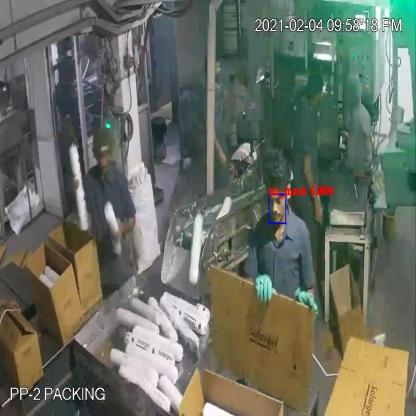glove: (293, 276, 322, 323), (252, 272, 280, 318)
no_glove: (301, 143, 327, 234), (104, 198, 139, 242), (206, 121, 226, 170), (0, 296, 23, 323)
